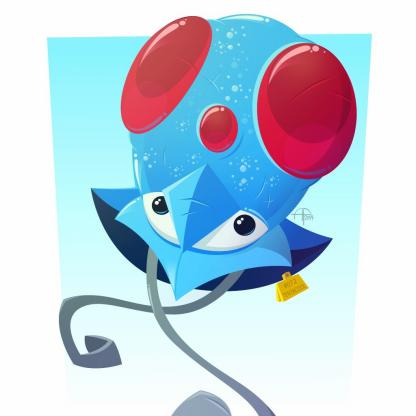Tentacool: (51, 1, 335, 416)
